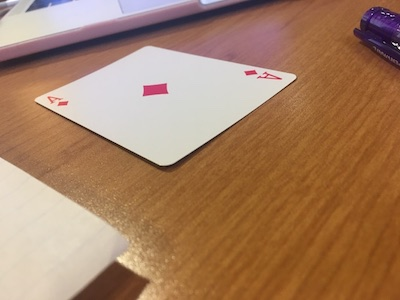AceOfDiamonds: (32, 43, 301, 170)
